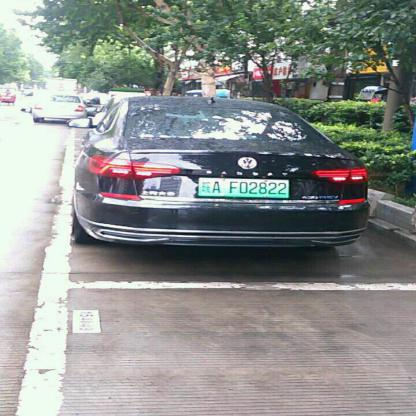lp: (199, 178, 288, 196)
